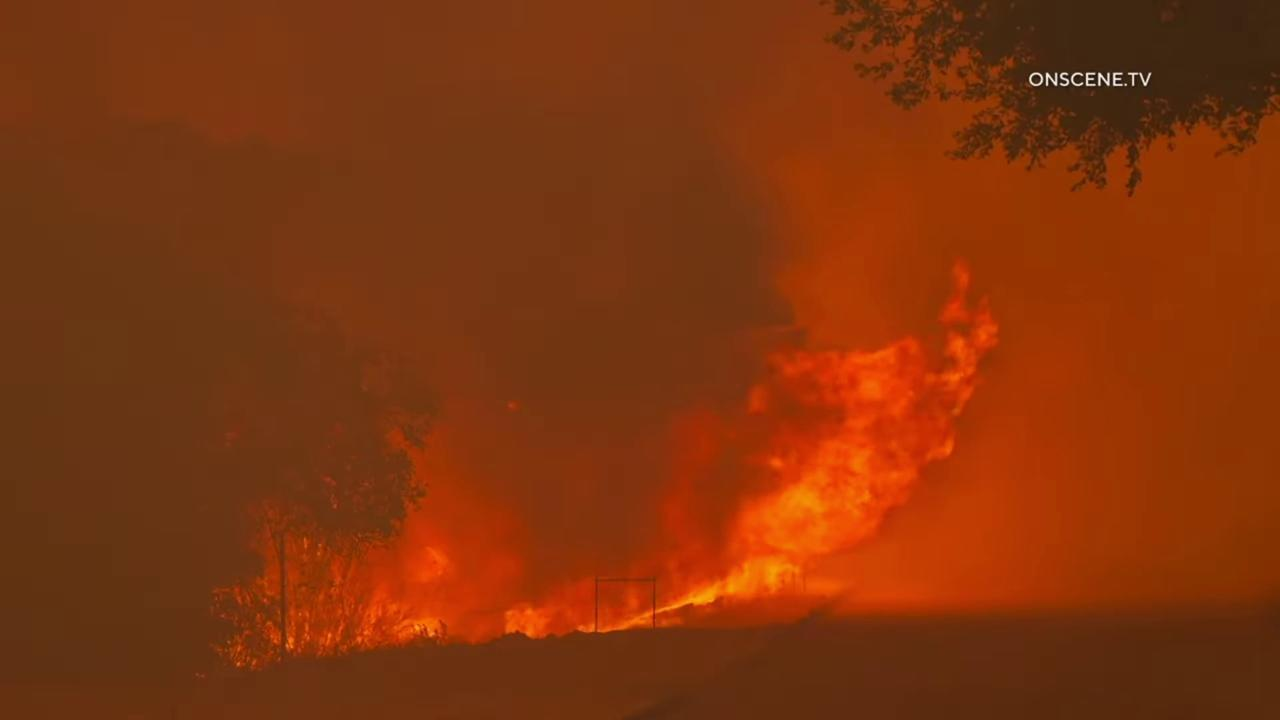fire: (224, 253, 1005, 668)
smoke: (0, 0, 1280, 720)
